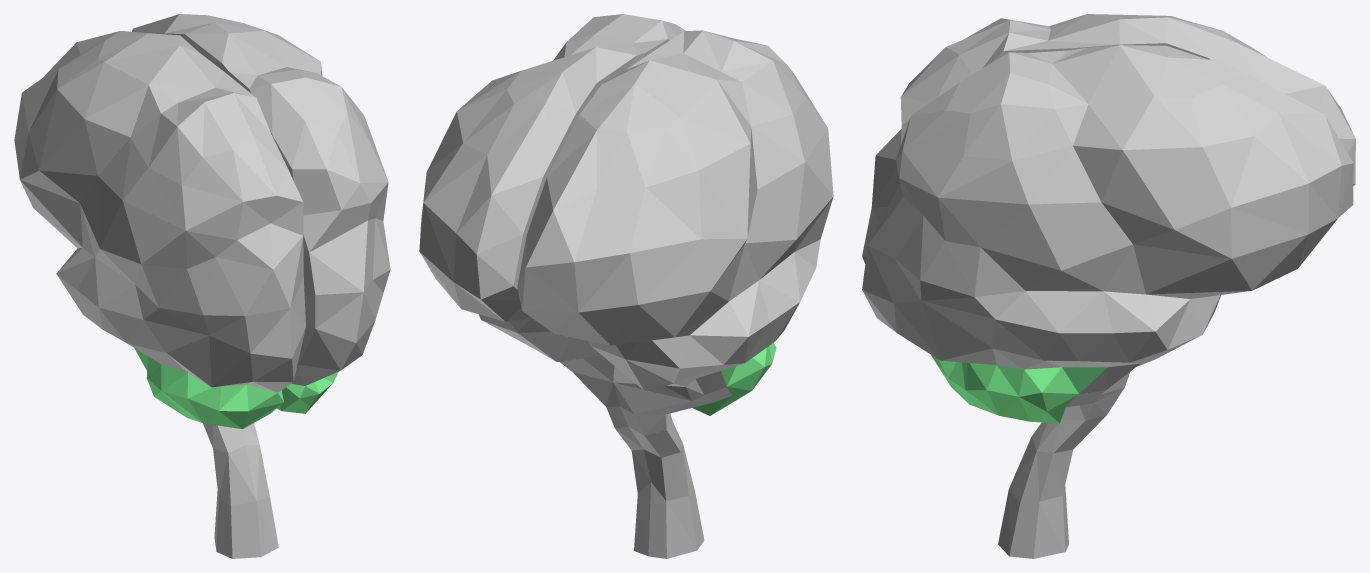
The model's file is brain.obj.
The picture shows the model from 3 angles, left to right: view 1: azimuth 30°, elevation 25°; view 2: azimuth 150°, elevation 25°; view 3: azimuth 270°, elevation 25°; orthographic projection. The views are drawn at different scales.
Visible parts, largest first — view 1: brain_Mesh; view 2: brain_Mesh; view 3: brain_Mesh.
Boxes of the visible parts, x1=… form: brain_Mesh: x1=14, y1=14, x2=390, y2=558; brain_Mesh: x1=419, y1=14, x2=833, y2=558; brain_Mesh: x1=862, y1=14, x2=1355, y2=558.
Size of the model in its own units: 6.67 by 10.9 by 9.53.
